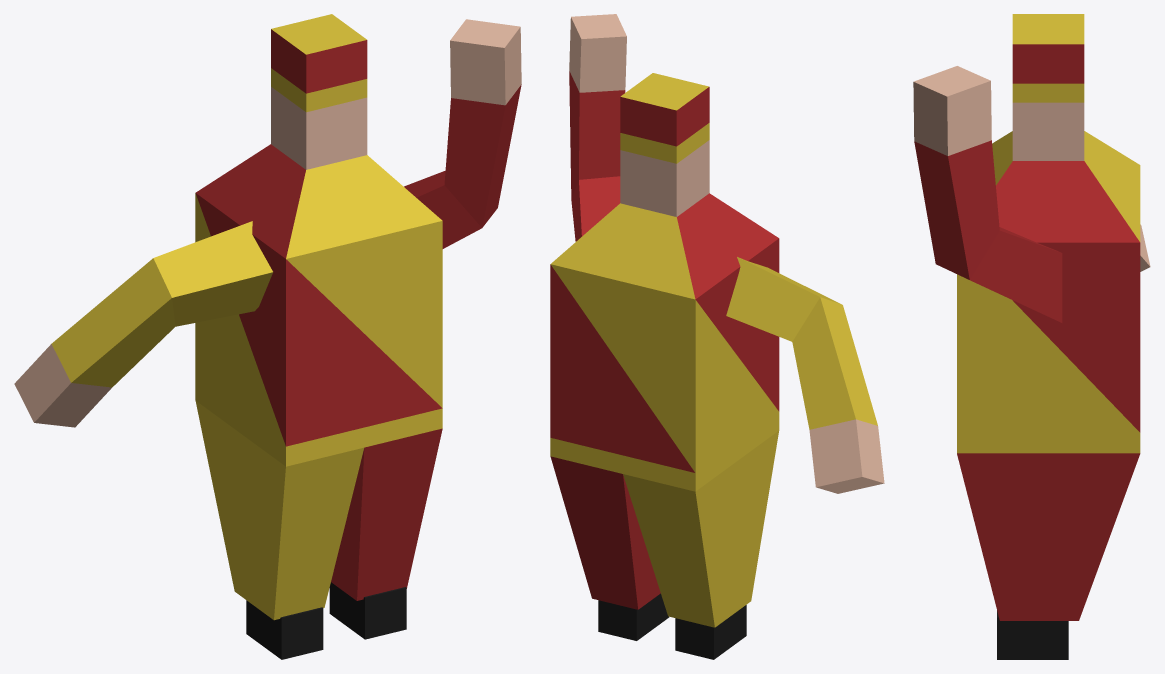
The model's file is Fest.fbx.
The picture shows the model from 3 angles, left to right: view 1: azimuth 30°, elevation 25°; view 2: azimuth 150°, elevation 25°; view 3: azimuth 270°, elevation 25°; orthographic projection. The views are drawn at different scales.
Visible parts, largest first — view 1: Fest; view 2: Fest; view 3: Fest.
Part boxes in pixels (box(x1,y1,x2,y2)): Fest: box(14, 14, 521, 659); Fest: box(550, 14, 884, 659); Fest: box(913, 14, 1150, 659).
Size of the model in its own units: 1.46 by 2.02 by 0.7132.
